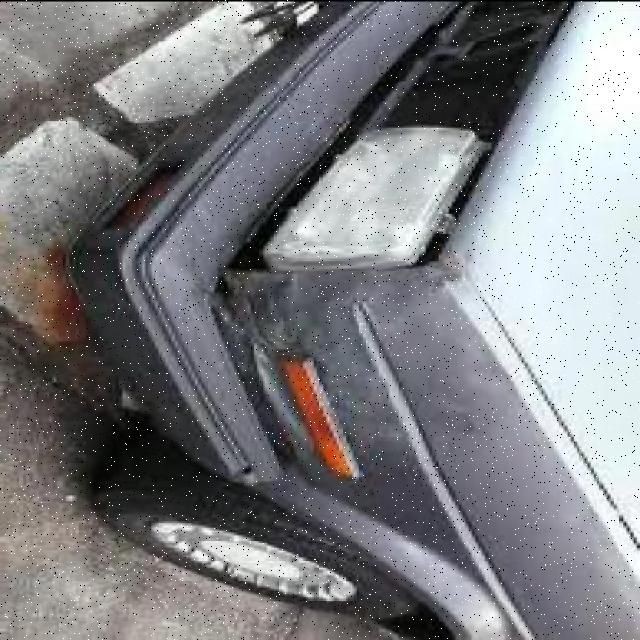damage: (214, 231, 504, 464)
